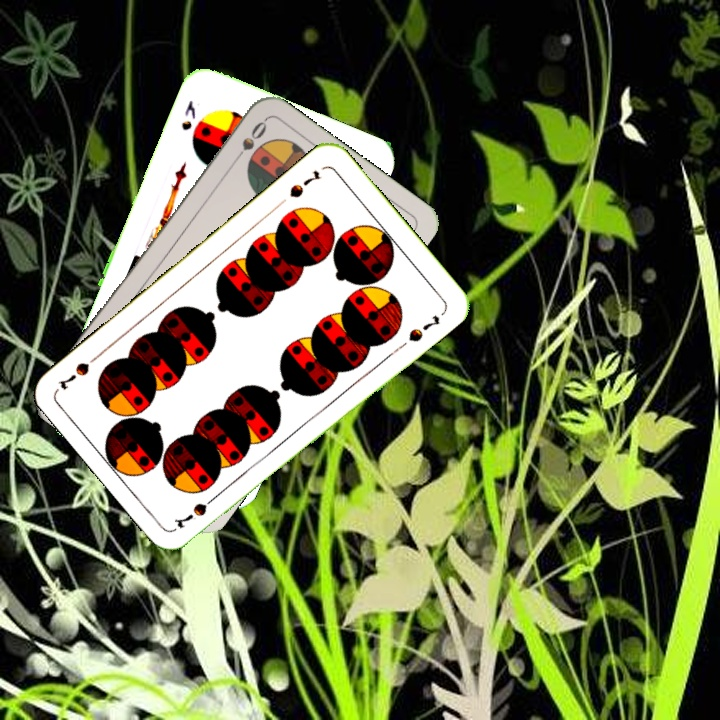S7: (170, 489, 222, 531), (285, 166, 323, 201)
SK: (177, 96, 199, 133)
SO: (227, 117, 270, 167)
